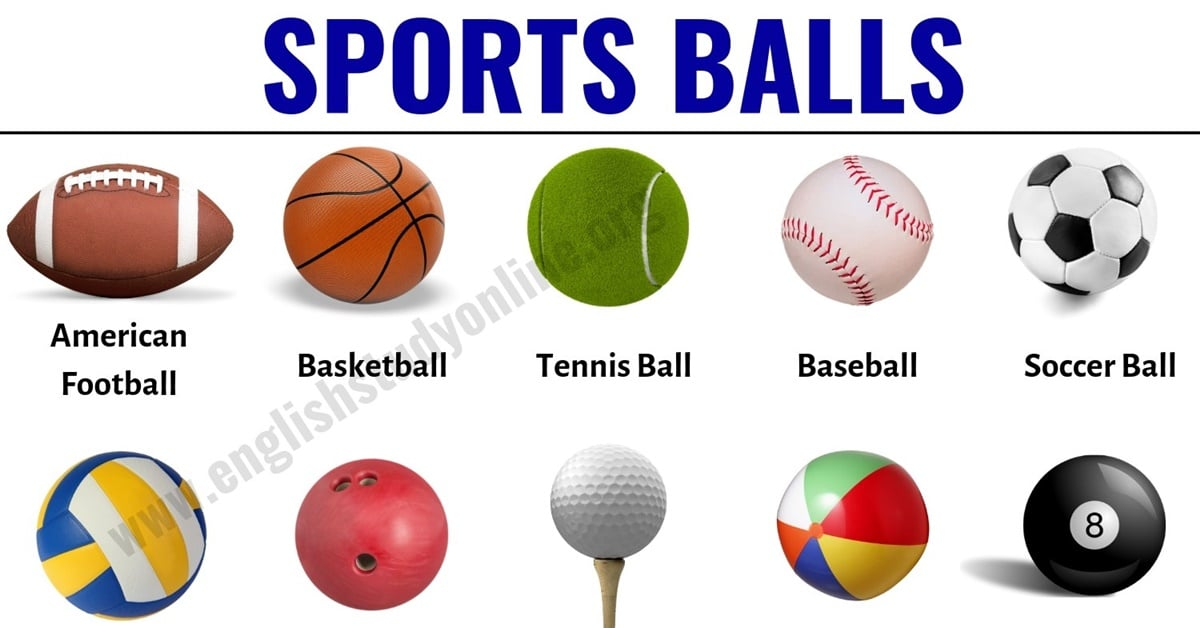sphere: (37, 452, 207, 621), (528, 148, 689, 307), (284, 147, 445, 304), (295, 458, 448, 611), (782, 155, 934, 306), (777, 451, 930, 601), (1008, 148, 1157, 297), (1023, 455, 1166, 596), (551, 444, 667, 558)
